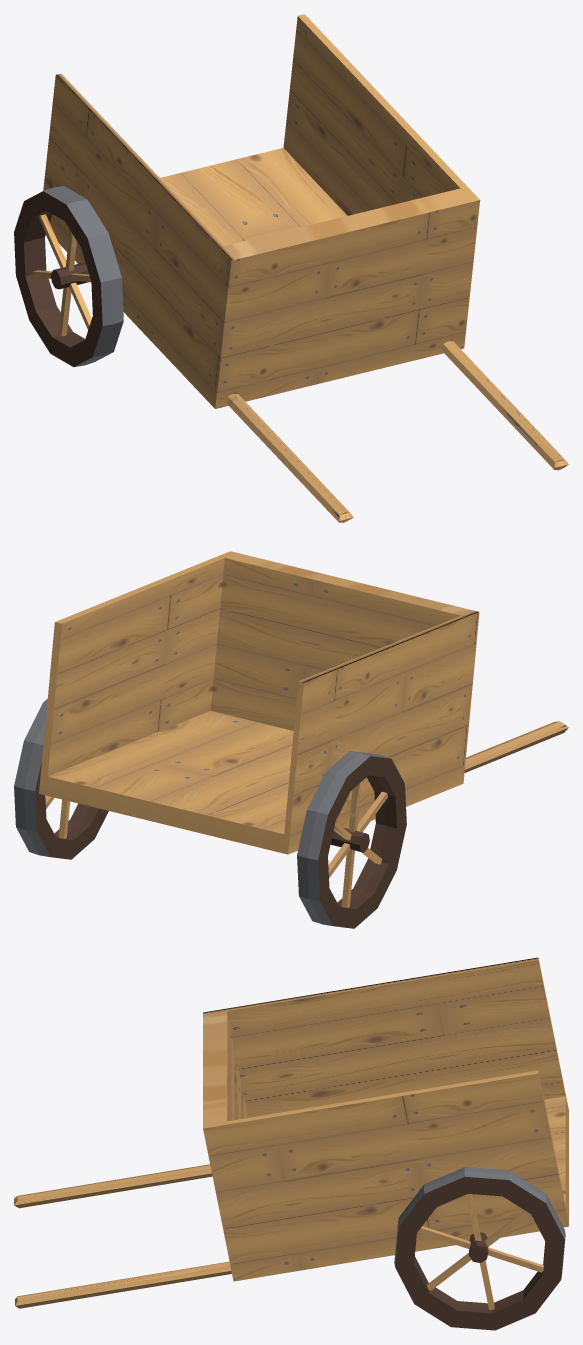
File: WAGON_V1.fbx
The picture shows the model from 3 angles, top to bottom: view 1: azimuth 30°, elevation 25°; view 2: azimuth 150°, elevation 25°; view 3: azimuth 270°, elevation 25°; orthographic projection. The views are drawn at different scales.
Visible parts, largest first — view 1: Cart; view 2: Cart; view 3: Cart.
Part boxes in pixels (bbox=[...]): Cart: bbox=[14, 14, 568, 522]; Cart: bbox=[14, 551, 568, 928]; Cart: bbox=[14, 957, 568, 1330].
Bounding box in the file's own units: 733 × 579 × 1189.
